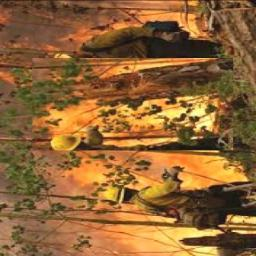Medium fire: (6, 6, 250, 255)
